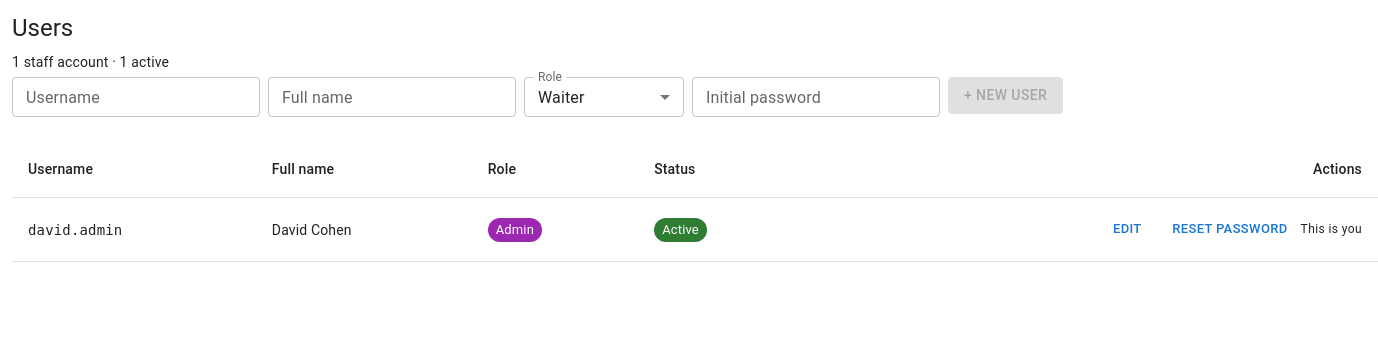
Scenario: UsersPage › surfaces the backend's exact duplicate-username message inline and does not clear the form
The image size is (1378, 343).
Check: the text "david.admin" is shown, box left=12, top=198, right=256, bottom=262
Step 1. Type "david.admin" into the field labelled "Username" → (136, 97), box left=12, top=77, right=260, bottom=117
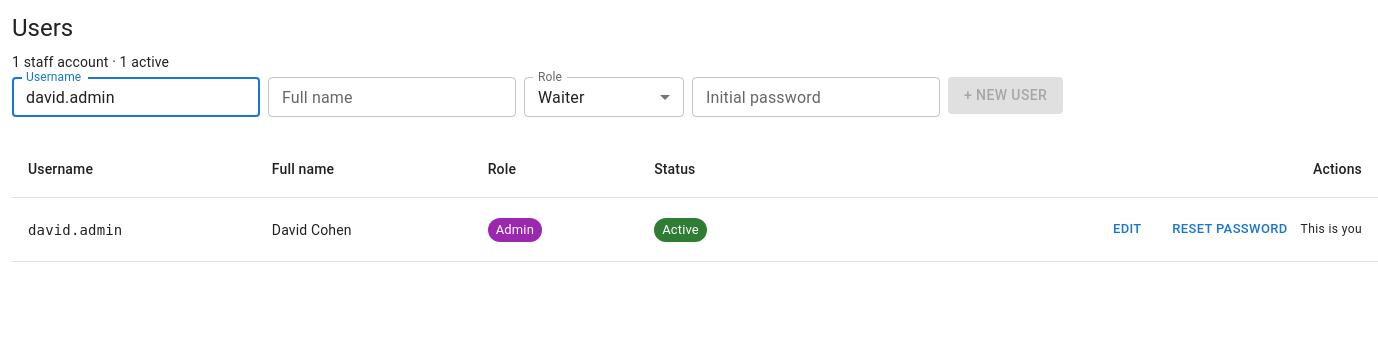
Step 2. Type "Someone Else" into the field labelled "Full name" → (392, 97), box left=268, top=77, right=516, bottom=117
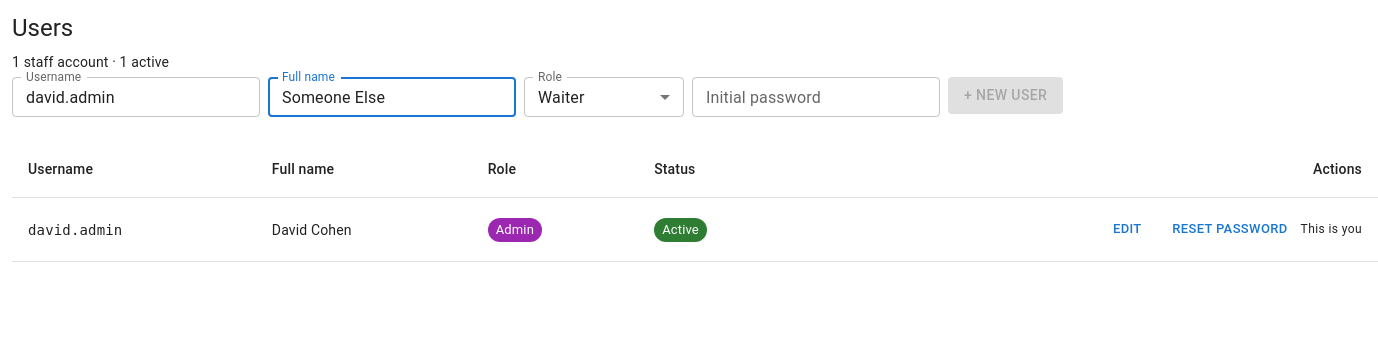
Step 3. Type "s3cret-pass" into the password field labelled "Initial password" → (816, 97), box left=692, top=77, right=940, bottom=117
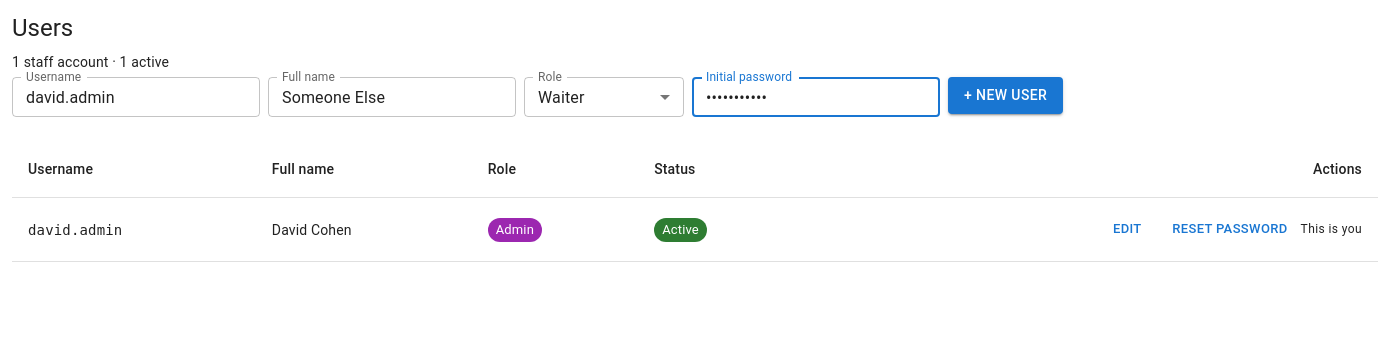
Step 4. Click the button "+ New user" → (1006, 96), box left=948, top=77, right=1063, bottom=114
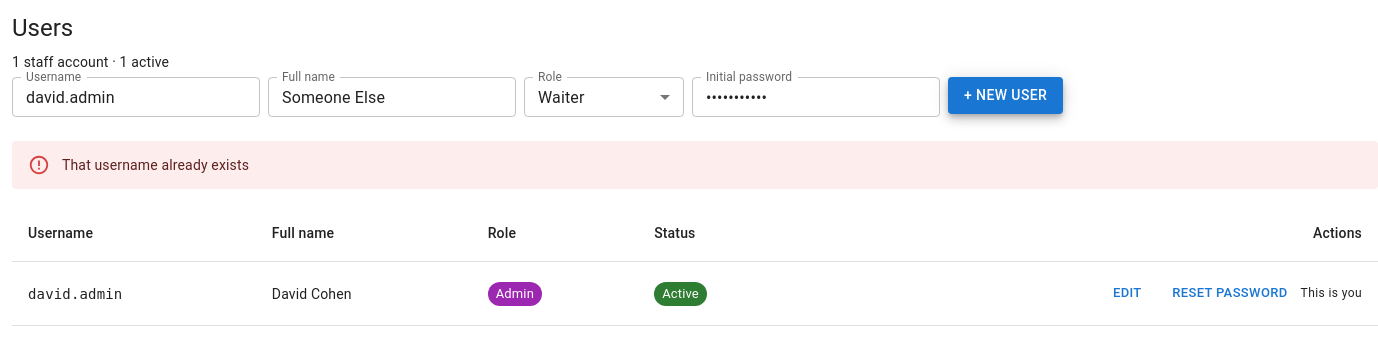
Check: the text "That username already exists" is shown, box left=62, top=157, right=249, bottom=173
